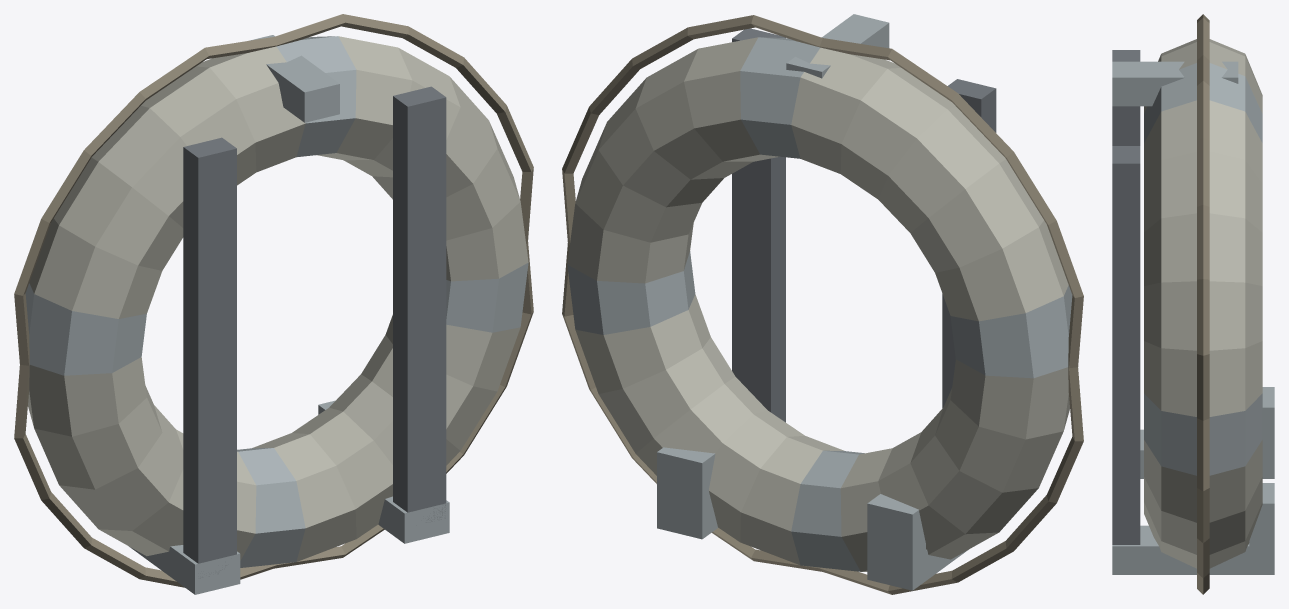
The picture shows the model from 3 angles, left to right: view 1: azimuth 30°, elevation 25°; view 2: azimuth 150°, elevation 25°; view 3: azimuth 270°, elevation 25°; orthographic projection. The views are drawn at different scales.
Parts seen in each view (by area): view 1: component.root.mesh; view 2: component.root.mesh; view 3: component.root.mesh.
Boxes of the visible parts, left/top/right/bottom form: component.root.mesh: left=14, top=14, right=533, bottom=594; component.root.mesh: left=562, top=14, right=1083, bottom=594; component.root.mesh: left=1112, top=14, right=1274, bottom=594.
Bounding box in the file's own units: 0.806 × 0.806 × 0.232.
